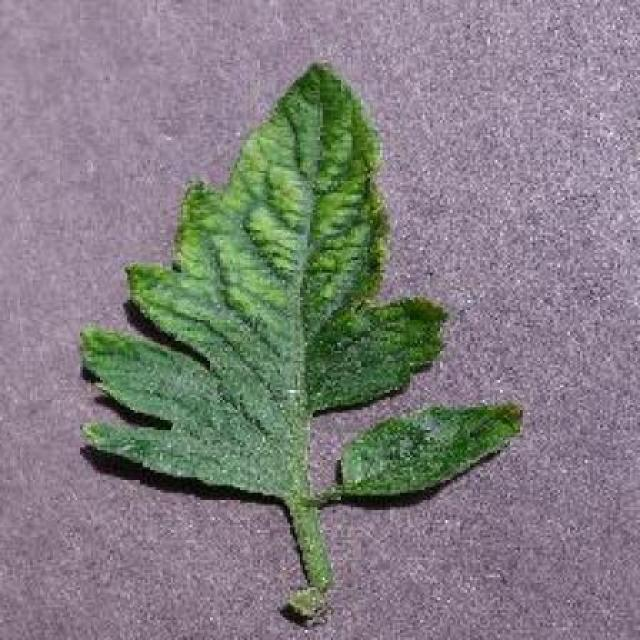Mosaic Virus: (75, 59, 454, 507)
